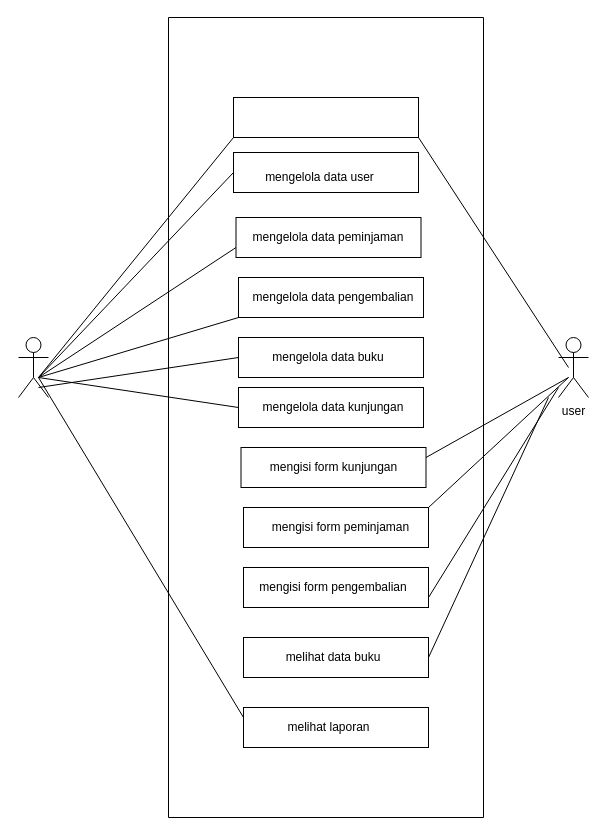
The diagram is 606 pixels wide and 835 high, and some of its shapes have lost their labels. Here are the shapes that lost their labels. From the top down, the centre of each, then its label:
At (325,117): "login".
At (33,367): "admin".
